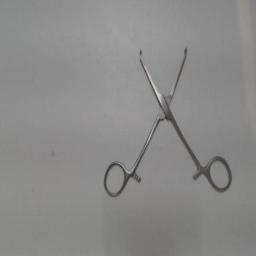Allis Tissue Forceps: (96, 42, 236, 202)
